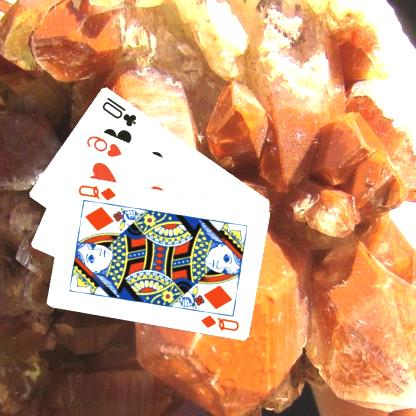10C: (100, 94, 140, 128)
6H: (85, 132, 125, 158)
QD: (199, 312, 242, 333), (77, 181, 119, 202)
